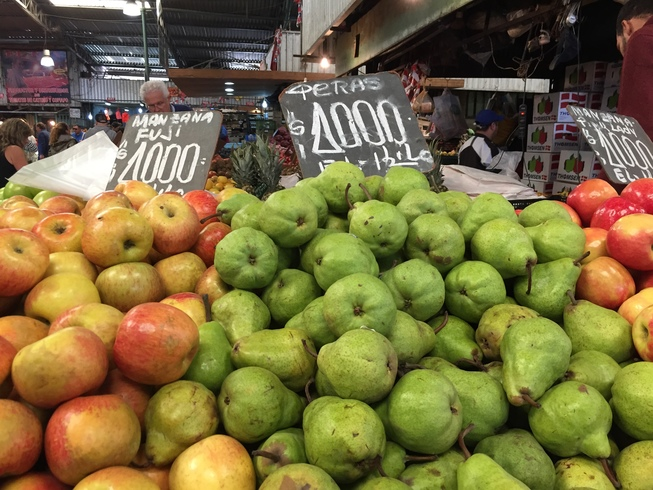precio: (281, 76, 434, 193), (114, 112, 217, 202), (571, 104, 653, 185)
